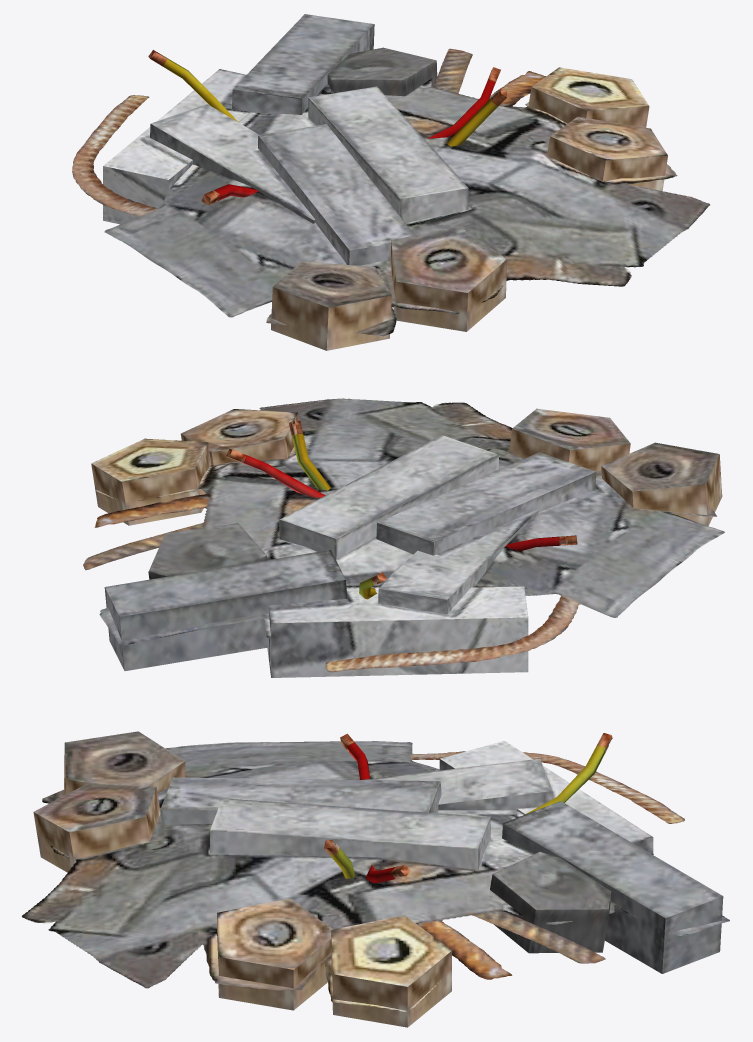
The model's file is Metalolom_loot.fbx.
The picture shows the model from 3 angles, top to bottom: view 1: azimuth 30°, elevation 25°; view 2: azimuth 150°, elevation 25°; view 3: azimuth 270°, elevation 25°; orthographic projection. The views are drawn at different scales.
Visible parts, largest first — view 1: Metalolom_loot; view 2: Metalolom_loot; view 3: Metalolom_loot.
Boxes of the visible parts, left/top/right/bottom form: Metalolom_loot: left=72, top=14, right=709, bottom=350; Metalolom_loot: left=83, top=398, right=724, bottom=677; Metalolom_loot: left=22, top=731, right=729, bottom=1027.
Bounding box in the file's own units: 2.47 × 0.4912 × 2.65.
1 material, 1 textured.
